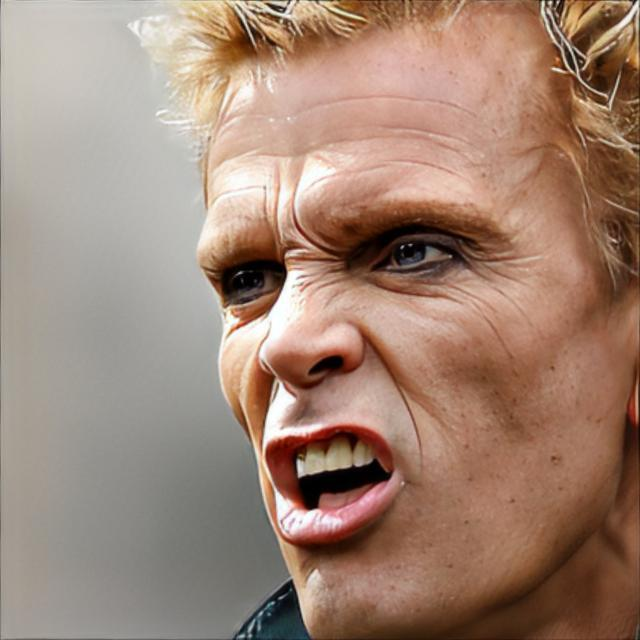anger: (192, 39, 640, 640)
